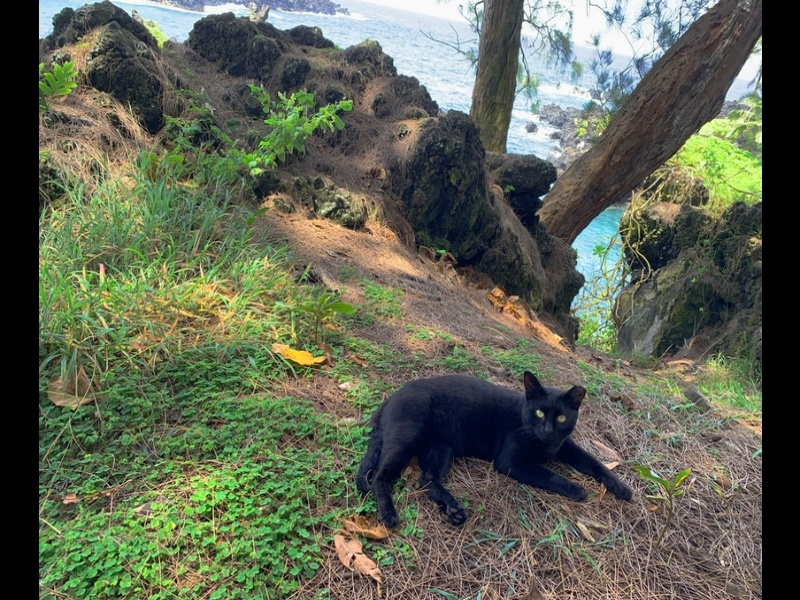cat: (350, 370, 638, 537)
